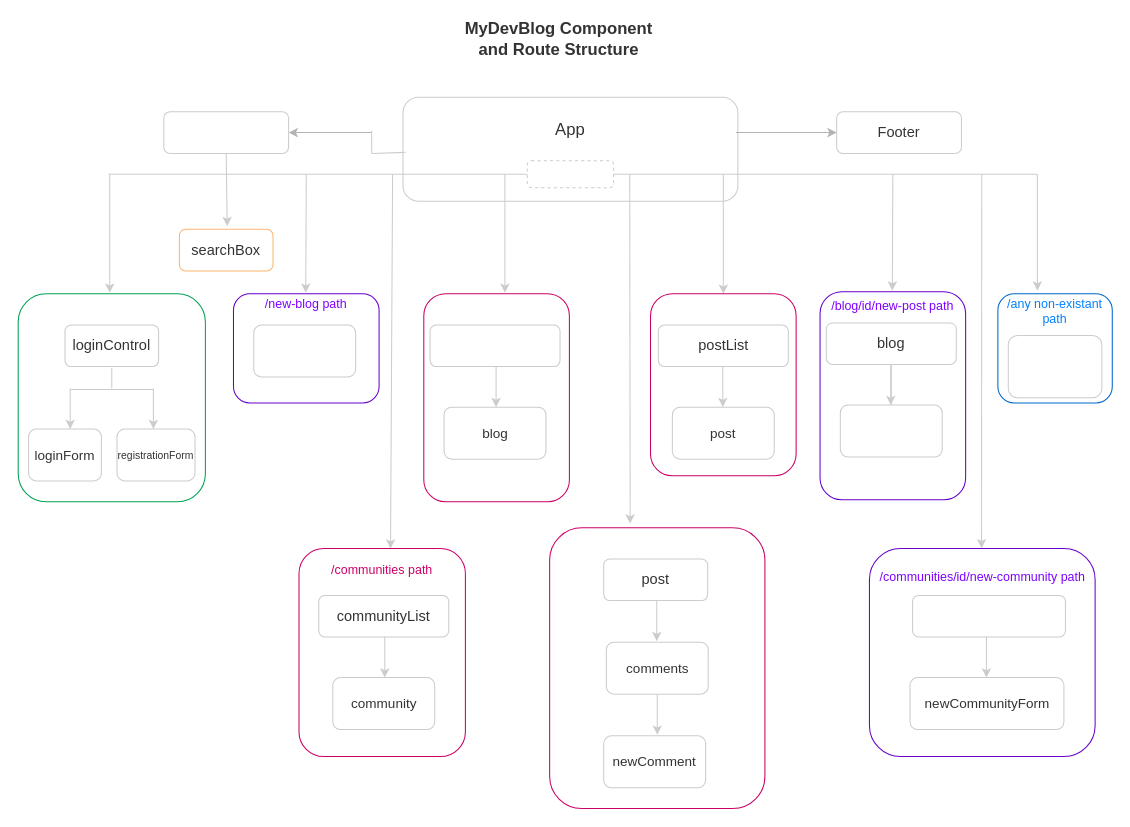
This 1130x827 diagram has some shape labels left out. The shapes that lost their labels are listed below. From the top down, each one's box as (x1, y1, x2, y2) in pixels, then its label:
(163, 111, 289, 153): NavBar
(526, 160, 614, 188): Routes
(253, 324, 356, 377): newBlogForm
(429, 324, 560, 367): blogList
(649, 293, 796, 476): /blog/id/posts path
(1007, 334, 1102, 398): Error 404
(17, 293, 205, 502): /login path
(423, 293, 569, 502): / path
(839, 404, 942, 457): newPostForm
(912, 594, 1065, 637): communities
(549, 527, 765, 809): /blog/id/posts/id path
